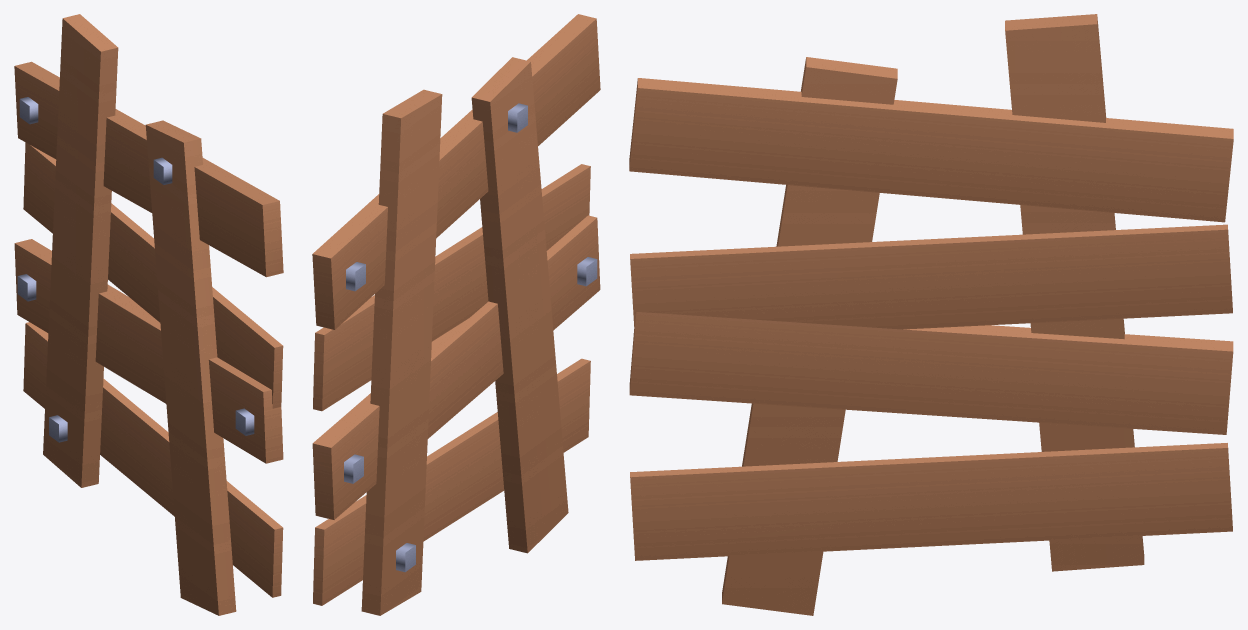
File: barricade-window-c.glb
3 views of the same model, side by side, from view 1: azimuth 30°, elevation 25°; view 2: azimuth 150°, elevation 25°; view 3: azimuth 270°, elevation 25° (orthographic). The views are drawn at different scales.
Parts seen in each view (by area): view 1: barricade-window-c; view 2: barricade-window-c; view 3: barricade-window-c.
Part boxes in pixels (bbox=[...]): barricade-window-c: bbox=[14, 14, 283, 615]; barricade-window-c: bbox=[312, 14, 600, 615]; barricade-window-c: bbox=[629, 14, 1233, 615].
Bounding box in the file's own units: 0.1 × 1.36 × 1.26.
1 material, 1 textured.
